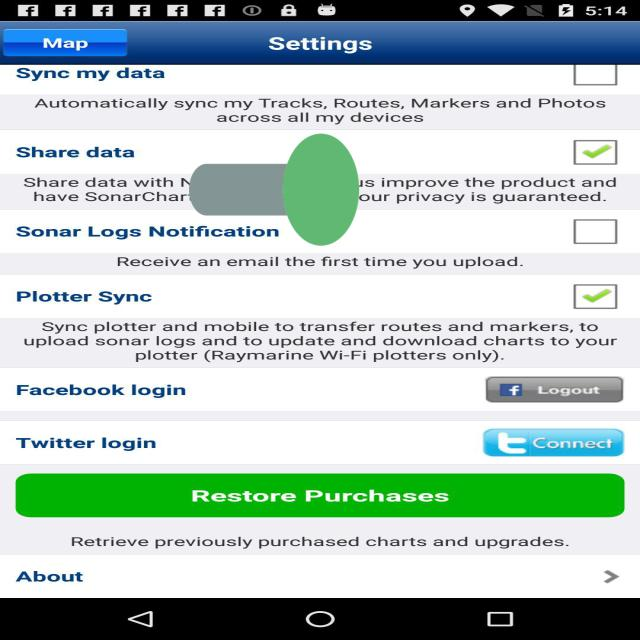social proof: (189, 64, 359, 314)
